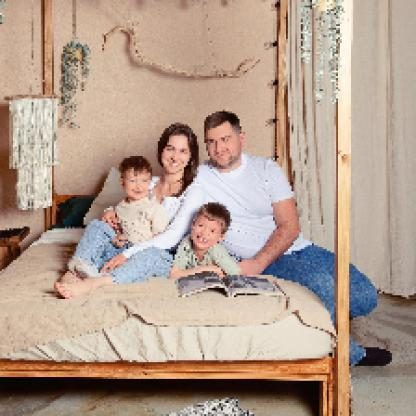child: (102, 157, 169, 246), (170, 203, 243, 281)
